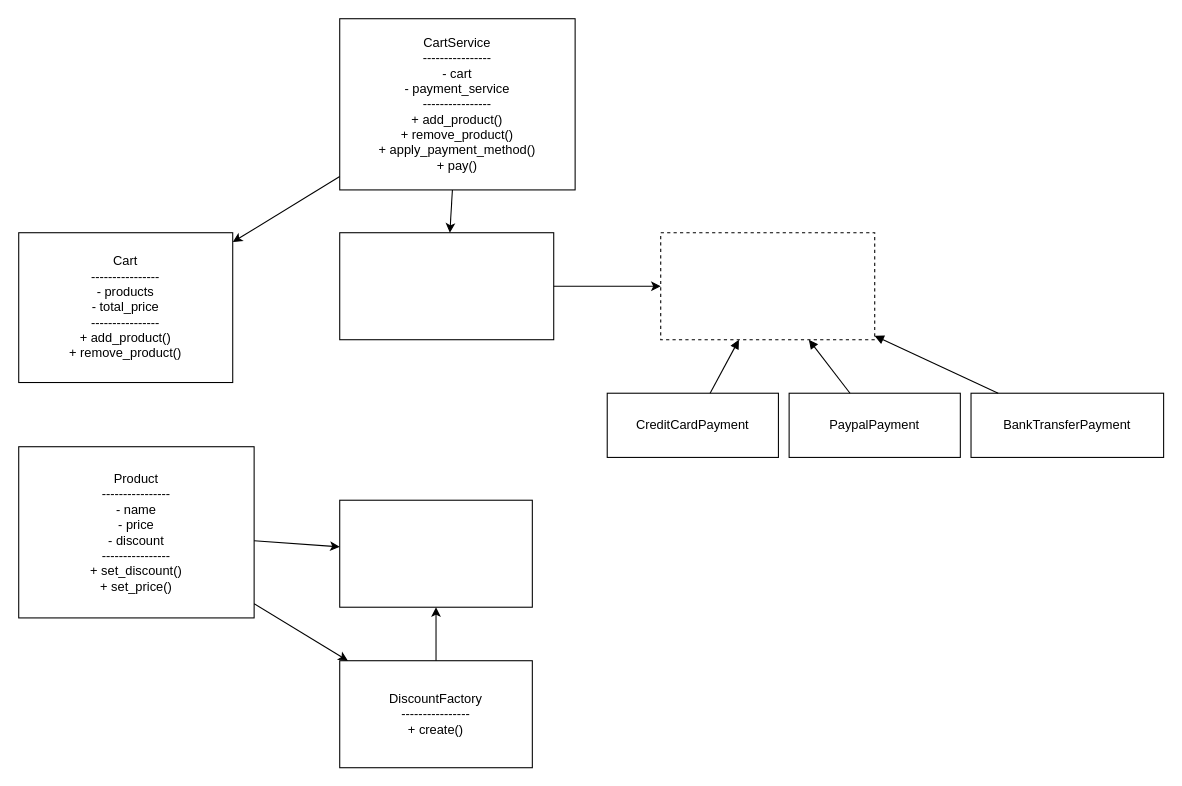
The diagram is 1182 pixels wide and 786 high, and some of its shapes have lost their labels. Here are the shapes that lost their labels. From the top down, the centre of each, then its label:
At [446,286]: "PaymentService ---------------- + pay(method)".
At [767,286]: "IPaymentMethod ---------------- + pay()".
At [435,553]: "Discount ---------------- - amount - is_percentage".
